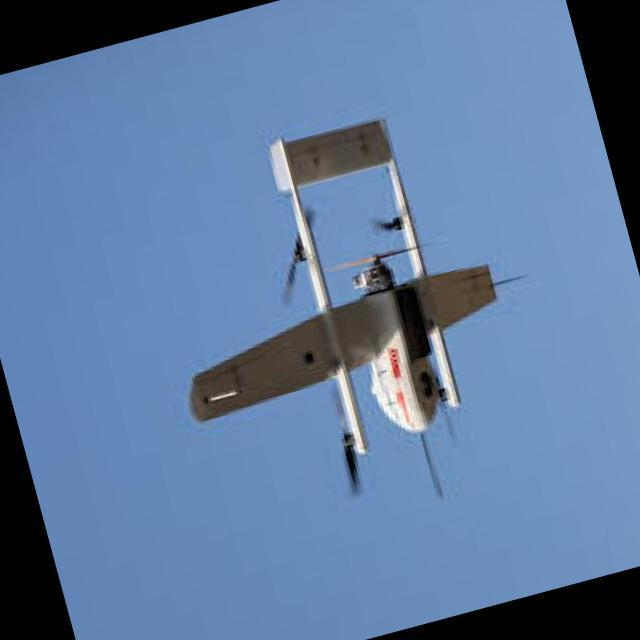iha: (186, 48, 639, 600)
